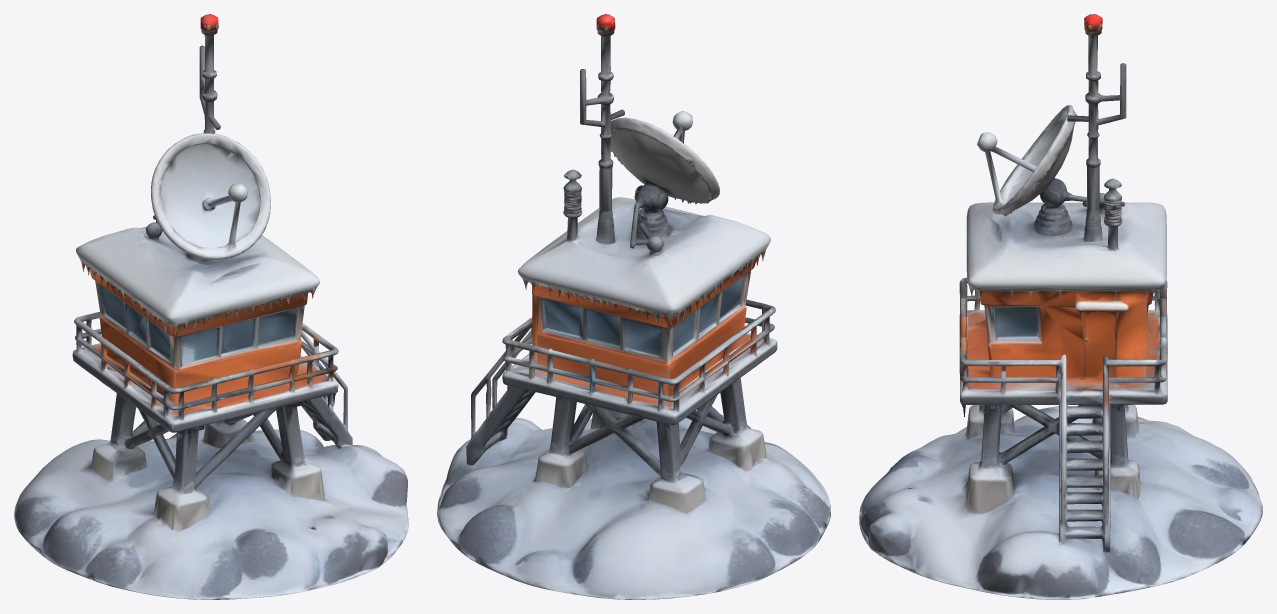
File: estacion-comunicaciones-web.glb
3 renders of one model, left to right at view 1: azimuth 30°, elevation 25°; view 2: azimuth 150°, elevation 25°; view 3: azimuth 270°, elevation 25°, orthographic. The views are drawn at different scales.
Visible parts, largest first — view 1: node_0; view 2: node_0; view 3: node_0.
Part boxes in pixels (x1=…): node_0: x1=14, y1=14, x2=408, y2=599; node_0: x1=437, y1=14, x2=830, y2=599; node_0: x1=859, y1=14, x2=1262, y2=599.
Bounding box in the file's own units: 0.6947 × 0.9587 × 0.6952.
1 material, 1 textured.
